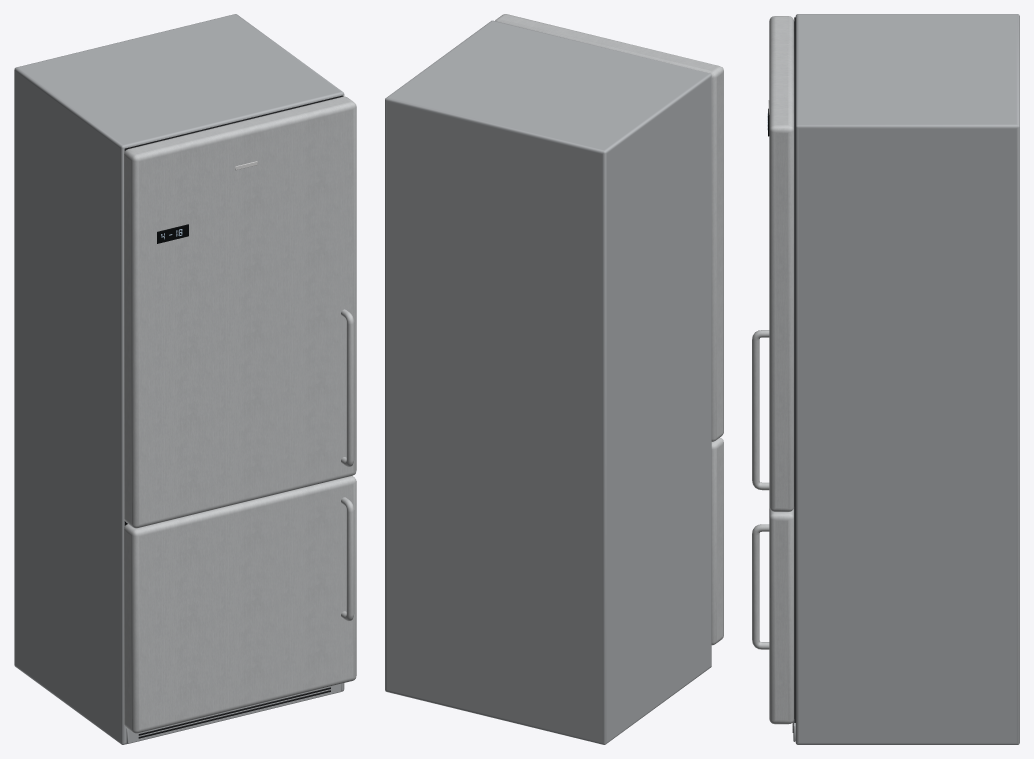
Rendered from frigorifico_combi_inox_70x180.glb.
The picture shows the model from 3 angles, left to right: view 1: azimuth 30°, elevation 25°; view 2: azimuth 150°, elevation 25°; view 3: azimuth 270°, elevation 25°; orthographic projection. The views are drawn at different scales.
Parts seen in each view (by area): view 1: frigorifico_combi_inox_70x180; view 2: frigorifico_combi_inox_70x180; view 3: frigorifico_combi_inox_70x180.
Boxes of the visible parts, box(x1,y1,x2,y2) form: frigorifico_combi_inox_70x180: box(14, 14, 356, 744); frigorifico_combi_inox_70x180: box(385, 14, 723, 744); frigorifico_combi_inox_70x180: box(752, 14, 1019, 744).
Bounding box in the file's own units: 0.6999 × 1.8 × 0.6999.
Materials: 6 (1 with a texture image).
